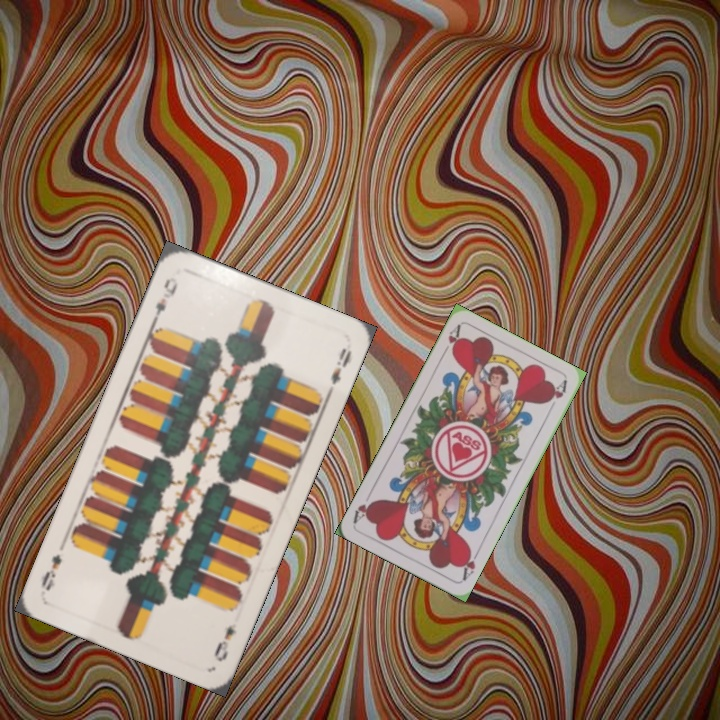E9: (148, 273, 181, 327), (210, 619, 239, 665)
HA: (438, 321, 464, 359), (457, 545, 482, 583)
